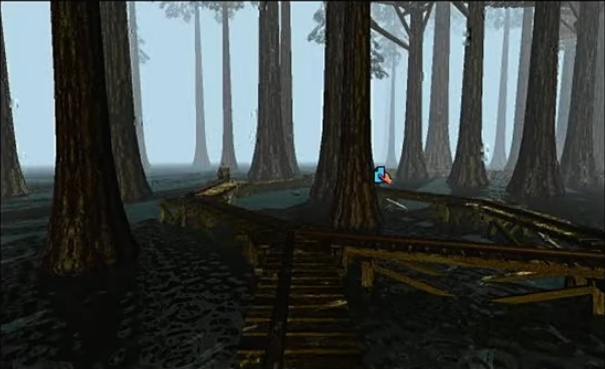Keep: (370, 163, 395, 186)
